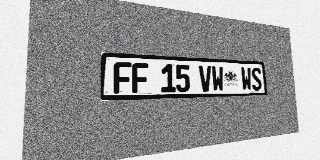1: (161, 64, 176, 92)
5: (176, 64, 190, 92)
F: (114, 62, 131, 94), (132, 63, 149, 93)
S: (251, 67, 262, 91)
V: (199, 65, 212, 92)
W: (211, 66, 224, 91), (241, 67, 252, 91)
